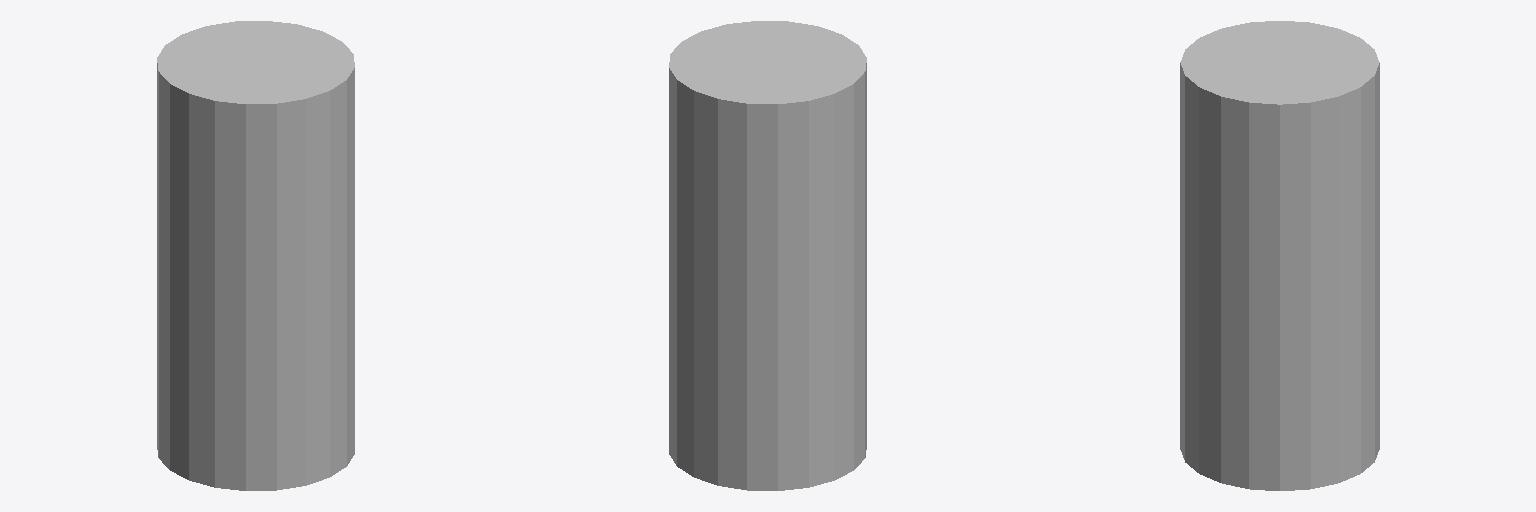
File: redbull.obj
The picture shows the model from 3 angles: view 1: azimuth 30°, elevation 25°; view 2: azimuth 150°, elevation 25°; view 3: azimuth 270°, elevation 25°; orthographic projection.
Parts seen in each view (by area): view 1: pCylinder1; view 2: pCylinder1; view 3: pCylinder1.
Part boxes in pixels (x1,y1,x2,y2): pCylinder1: (157, 21, 354, 490); pCylinder1: (669, 21, 866, 490); pCylinder1: (1180, 21, 1379, 490).
Bounding box in the file's own units: 1.3 × 2.78 × 1.3.